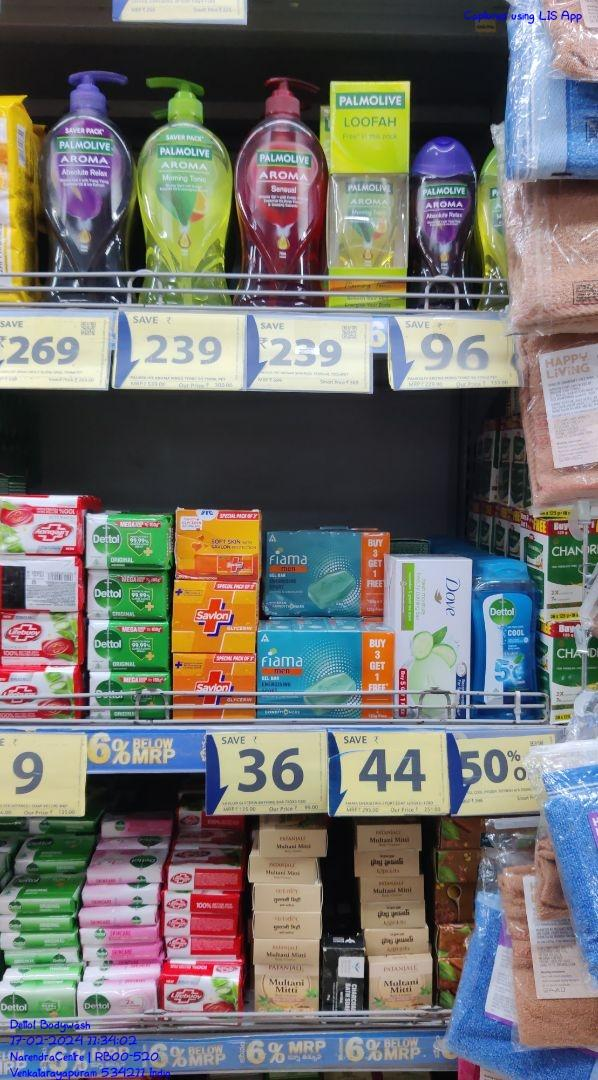Dettol_Bodywash_Cool: (470, 557, 540, 717)
Palmolive_Aroma_Relax_250ML: (411, 140, 478, 309)
